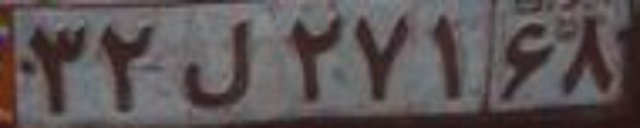1: (431, 13, 461, 99)
2: (290, 11, 343, 101), (97, 25, 151, 112)
3: (27, 27, 88, 113)
6: (500, 21, 553, 100)
7: (353, 12, 411, 99)
8: (563, 15, 612, 94)
lam: (179, 20, 254, 107)
